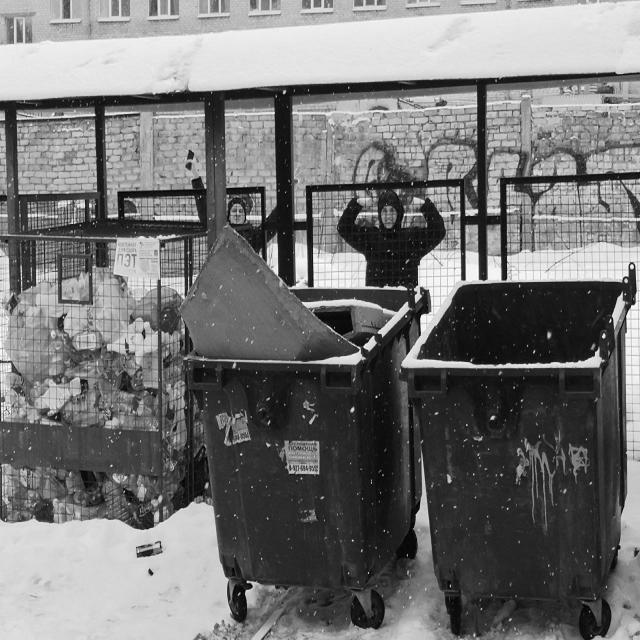Trashcan: (168, 192, 444, 639), (409, 221, 640, 634)
